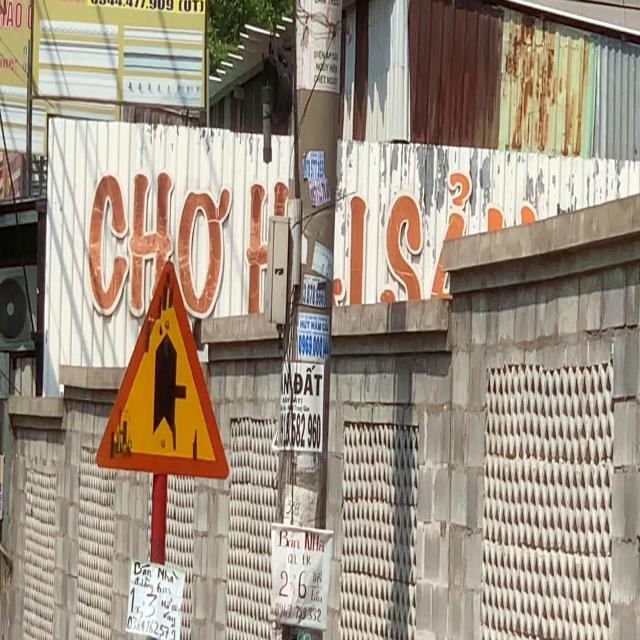Giao voi duong khong uu tien: (95, 257, 230, 483)
